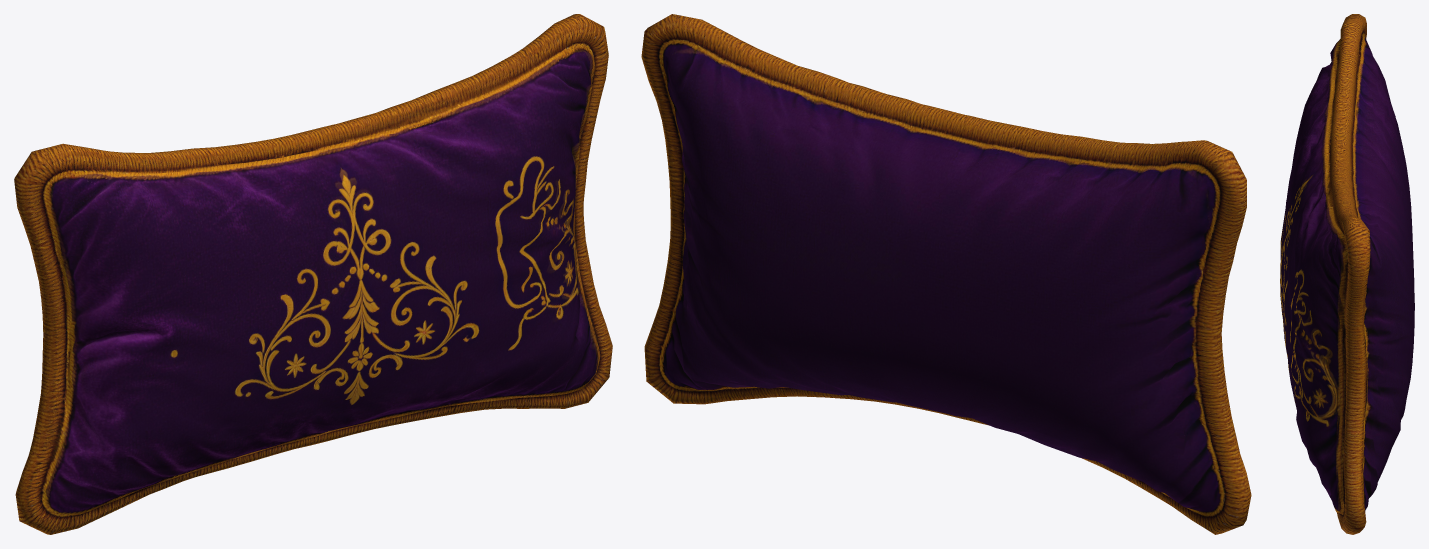
The model's file is tripo_convert_19e6db67-13ff-4f49-9f3f-1a4abbaf2a40.fbx.
The picture shows the model from 3 angles, left to right: view 1: azimuth 30°, elevation 25°; view 2: azimuth 150°, elevation 25°; view 3: azimuth 270°, elevation 25°; orthographic projection. The views are drawn at different scales.
Visible parts, largest first — view 1: tripo_node_19e6db67; view 2: tripo_node_19e6db67; view 3: tripo_node_19e6db67.
Part boxes in pixels (box(x1,y1,x2,y2)): tripo_node_19e6db67: box(14, 14, 612, 534); tripo_node_19e6db67: box(641, 14, 1251, 534); tripo_node_19e6db67: box(1280, 14, 1414, 534).
Bounding box in the file's own units: 0.9722 × 0.5994 × 0.2369.
1 material, 1 textured.
